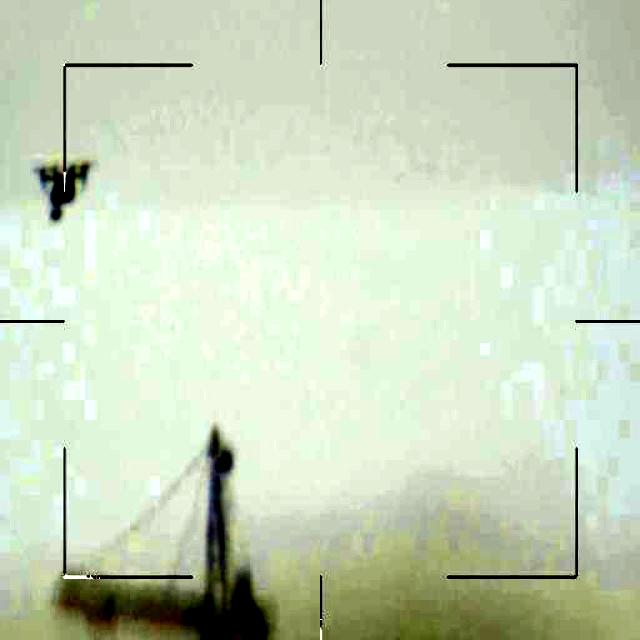bird: (32, 149, 95, 221)
